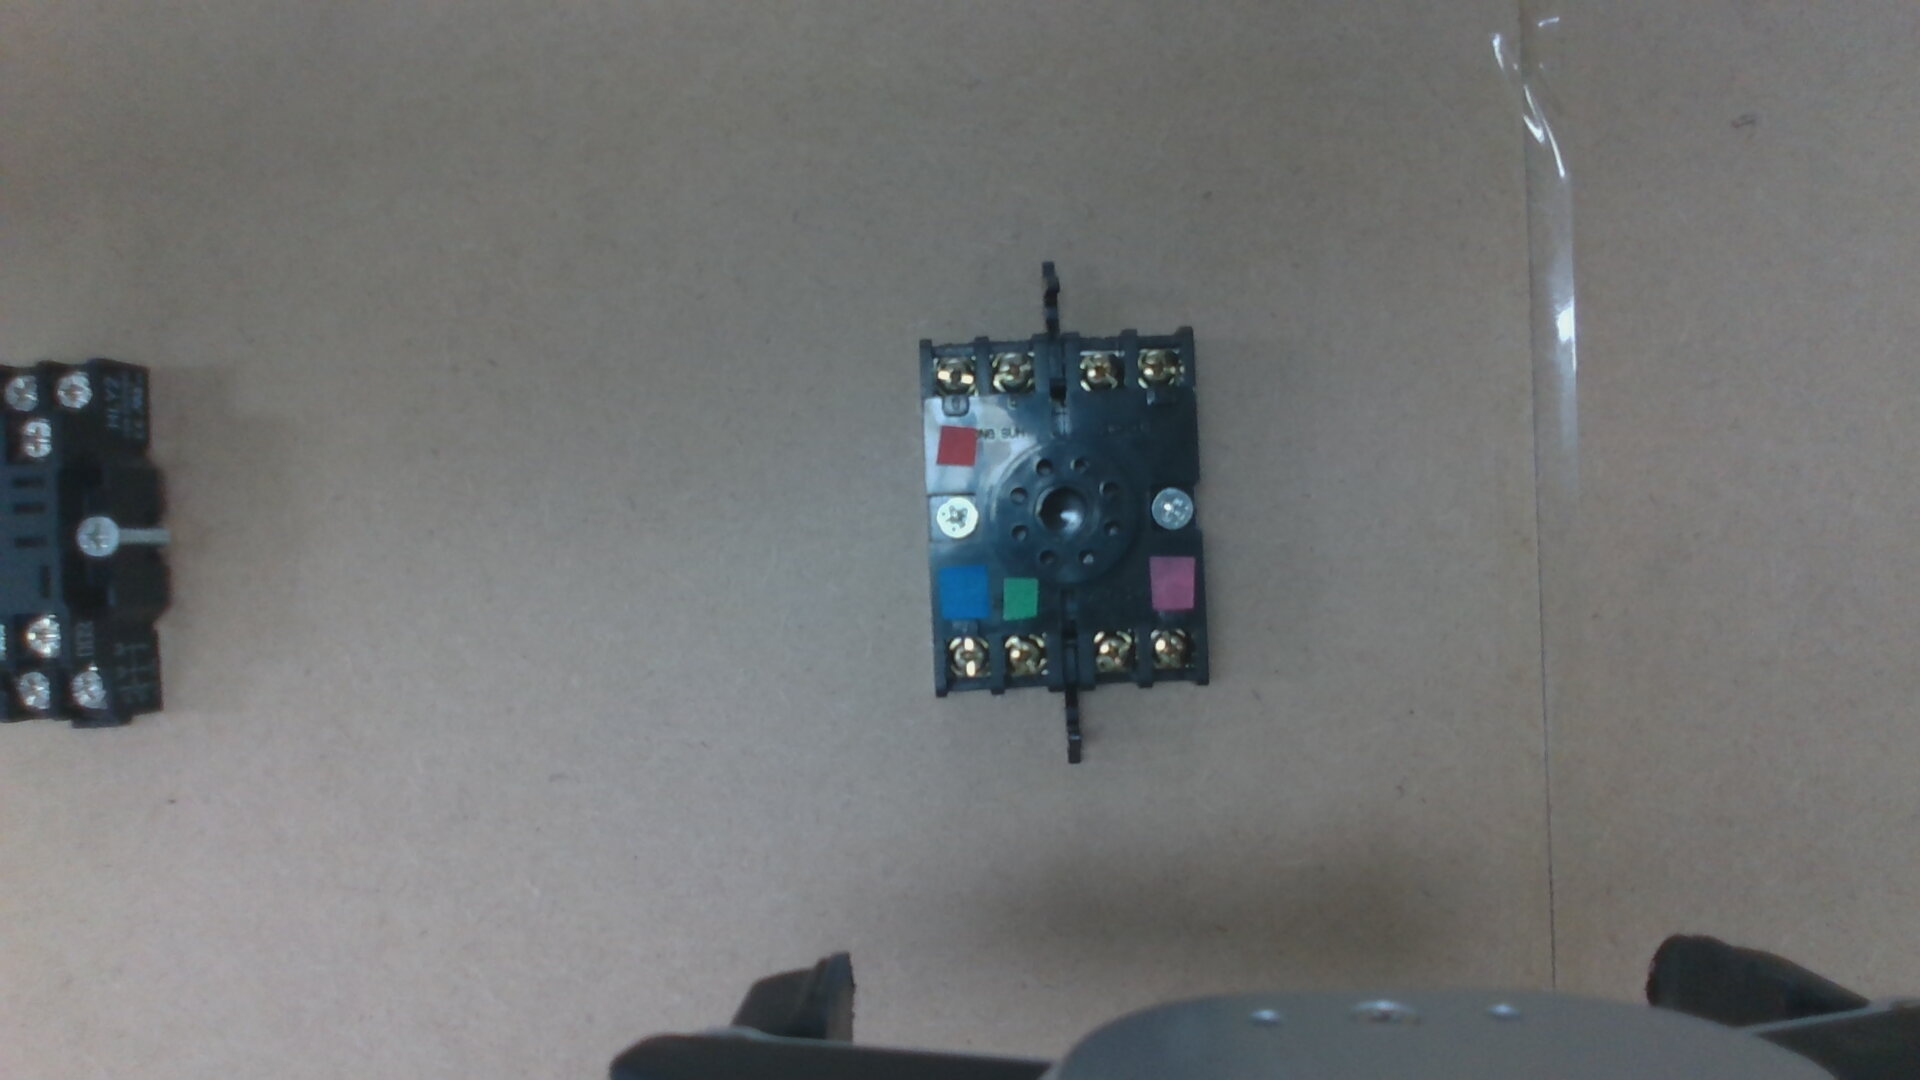timer 2: (1149, 629, 1187, 667)
timer 6: (934, 355, 975, 396)
timer 7: (947, 637, 988, 675), (1007, 636, 1043, 671)
